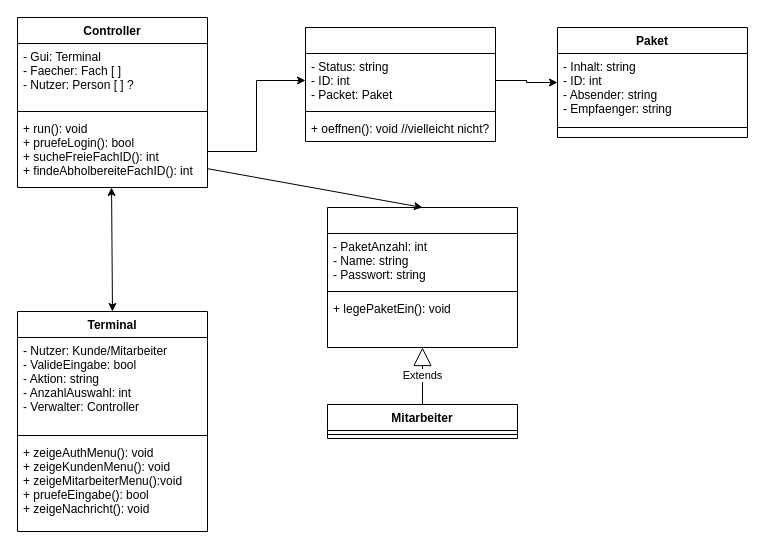
The diagram is 765 pixels wide and 552 high, and some of its shapes have lost their labels. Here are the shapes that lost their labels. From the top down, the box of each, then its label:
(304, 26, 496, 142): Fach
(326, 206, 518, 348): Benutzer
